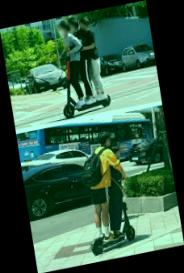multiple: (74, 126, 138, 256), (49, 12, 113, 118)
